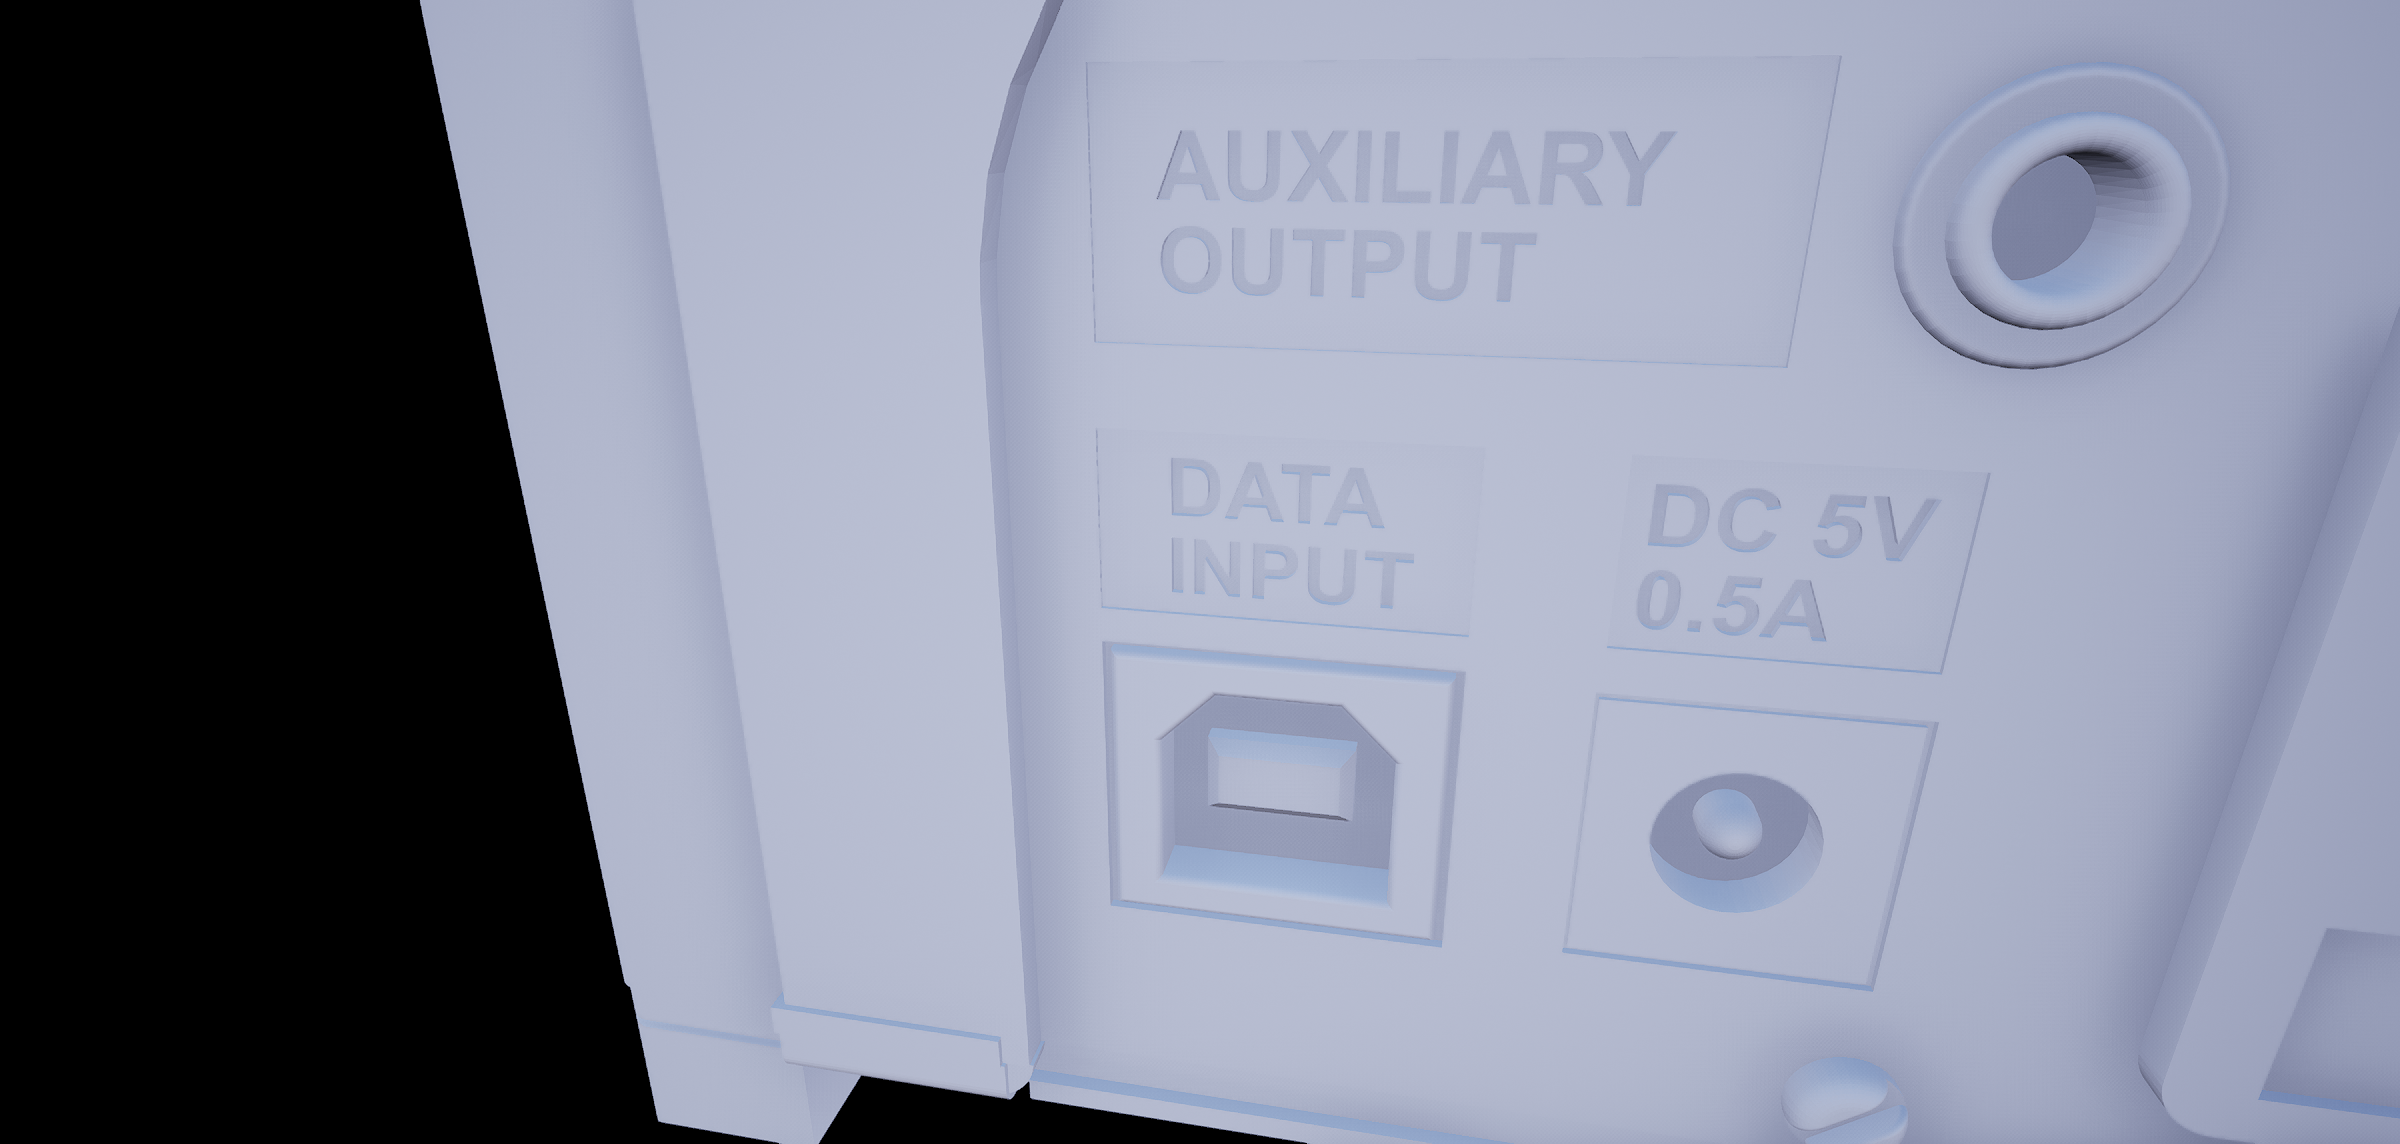aux: (1881, 51, 2255, 395)
dc: (1638, 757, 1837, 931)
usb: (1143, 678, 1417, 930)
